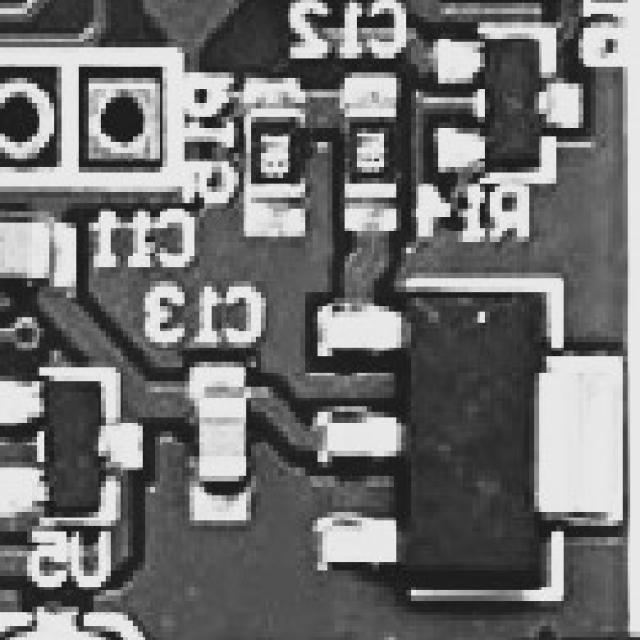4439: (449, 23, 558, 176), (23, 366, 129, 522)
IC: (346, 282, 594, 617)
capacitor 1V5: (196, 386, 250, 489)
resistor IR1: (245, 100, 304, 209), (343, 95, 394, 203)
